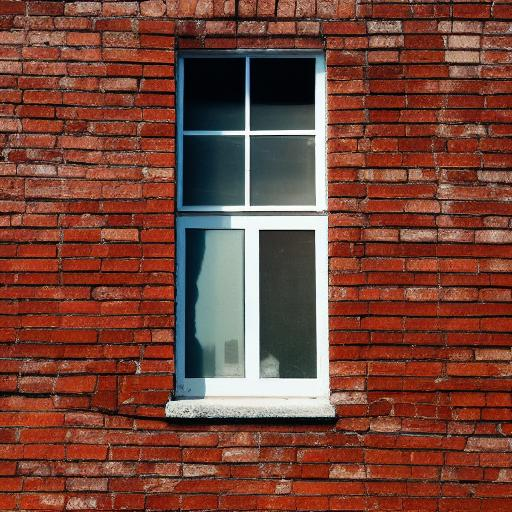Window: (163, 45, 338, 424)
